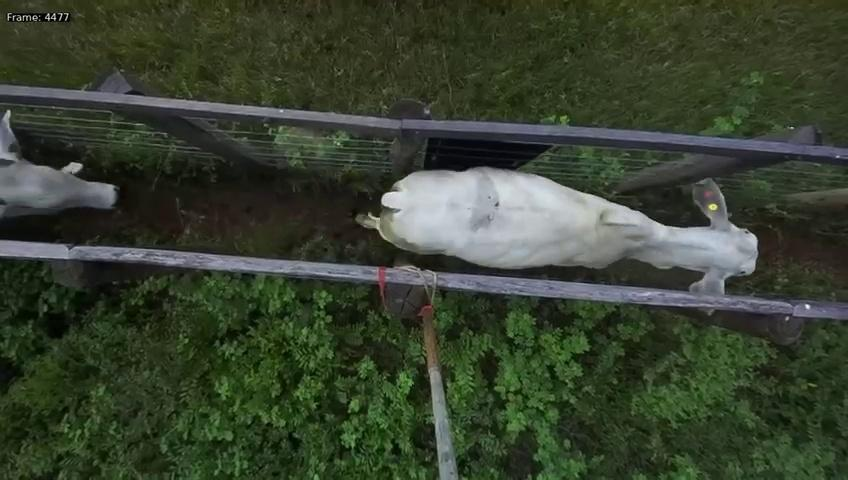cattle: (380, 151, 759, 293)
